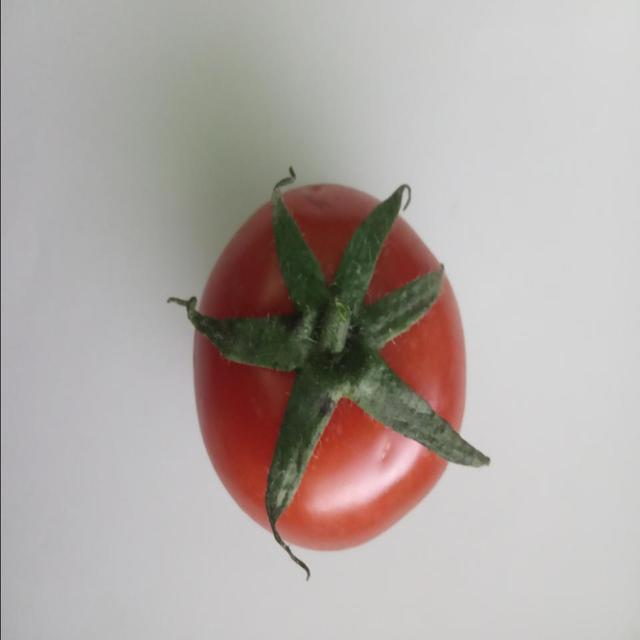Healthy Fruit: (126, 118, 315, 372)
